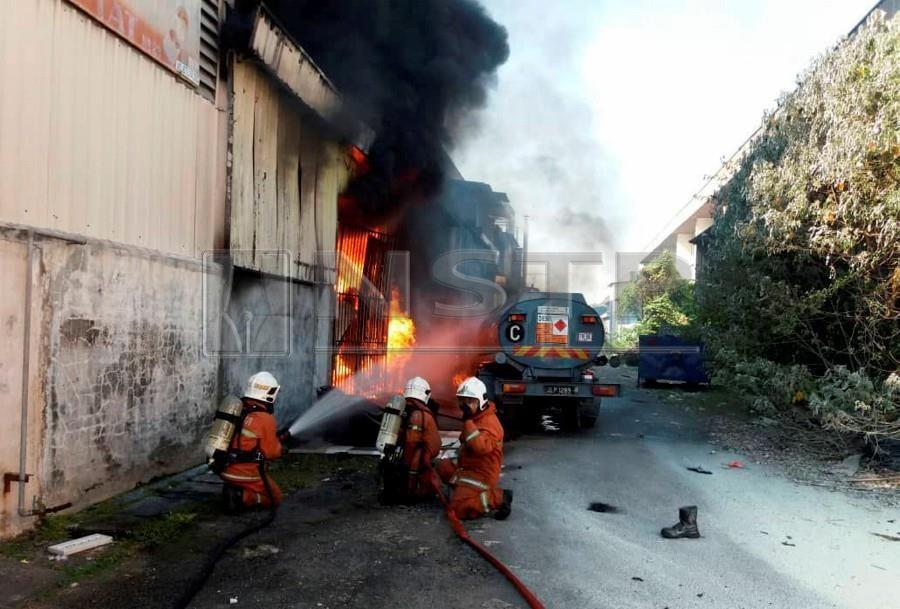Fire: (329, 252, 424, 401)
